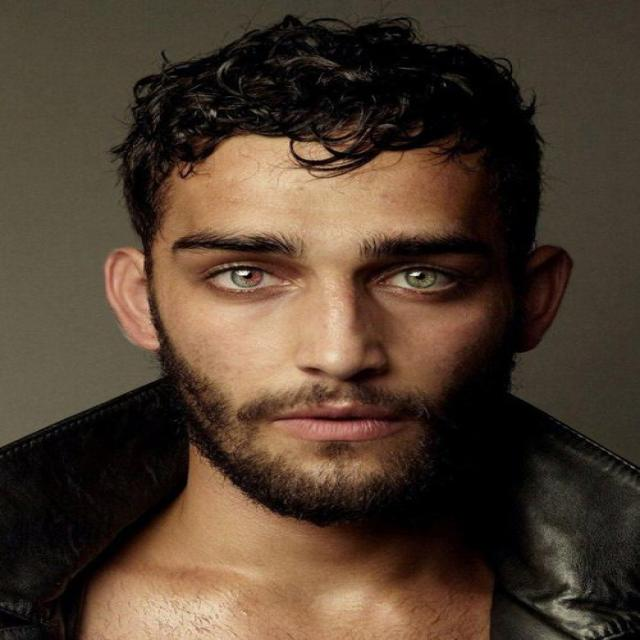earlobe: (512, 318, 543, 354), (130, 318, 162, 352)
eye: (199, 266, 287, 292), (376, 267, 456, 292)
nose: (296, 364, 387, 404)
wholeear: (513, 245, 575, 354), (103, 247, 162, 352)
